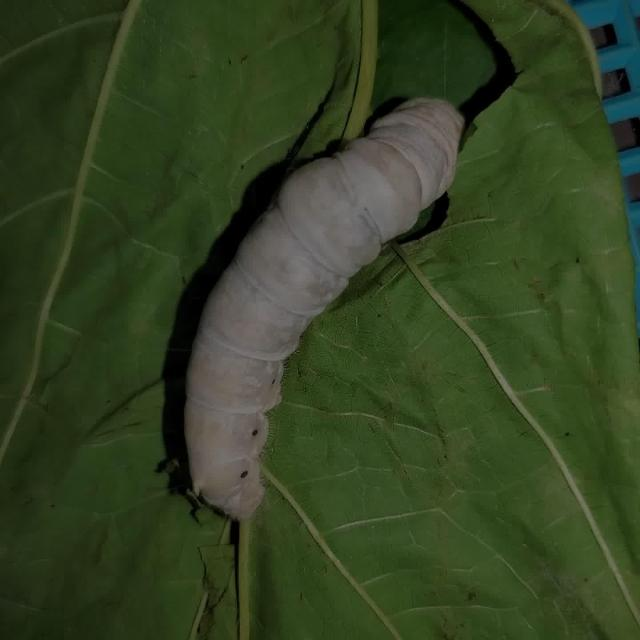Grasserie: (147, 73, 471, 564)
